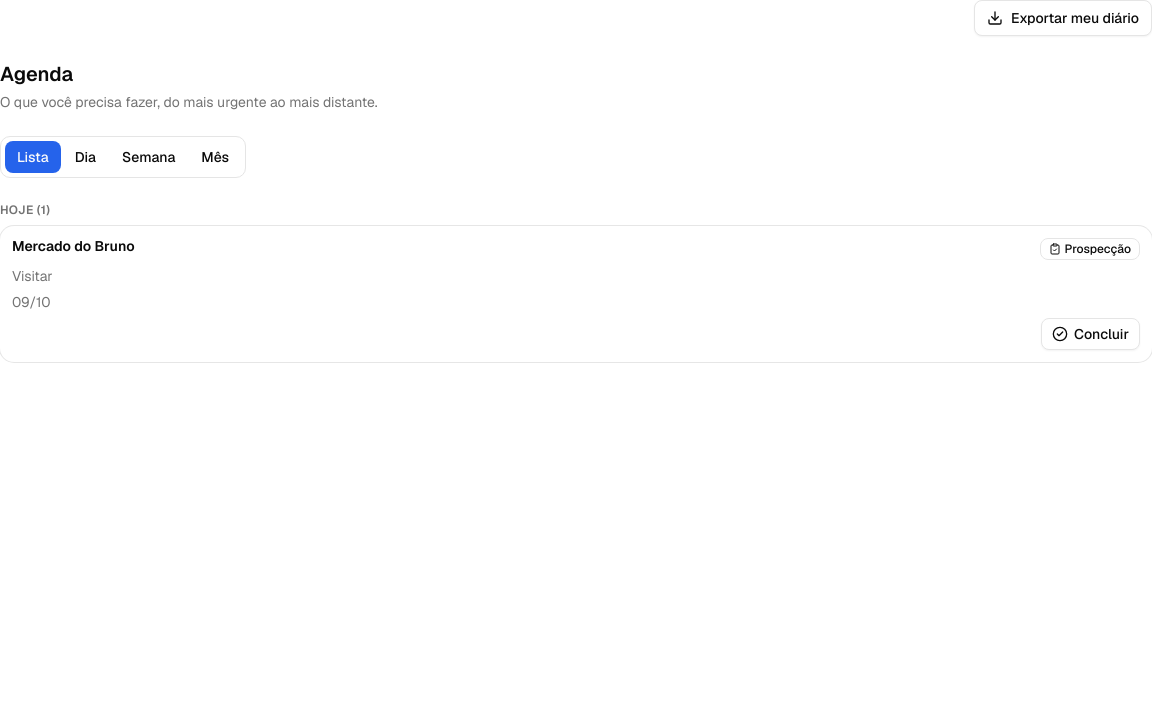
Test case: AgendaList + AgendaCalendario (integração, plano 20-05) › Lista vazia: quando o corte de vazio decide só o bloco da Lista, a barra do calendário continua visível (caminho de volta preservado)
Expected: the text "Mercado do Bruno" is shown, [12, 237, 135, 255]
Click the button "Concluir": (1091, 334) [1041, 318, 1140, 350]
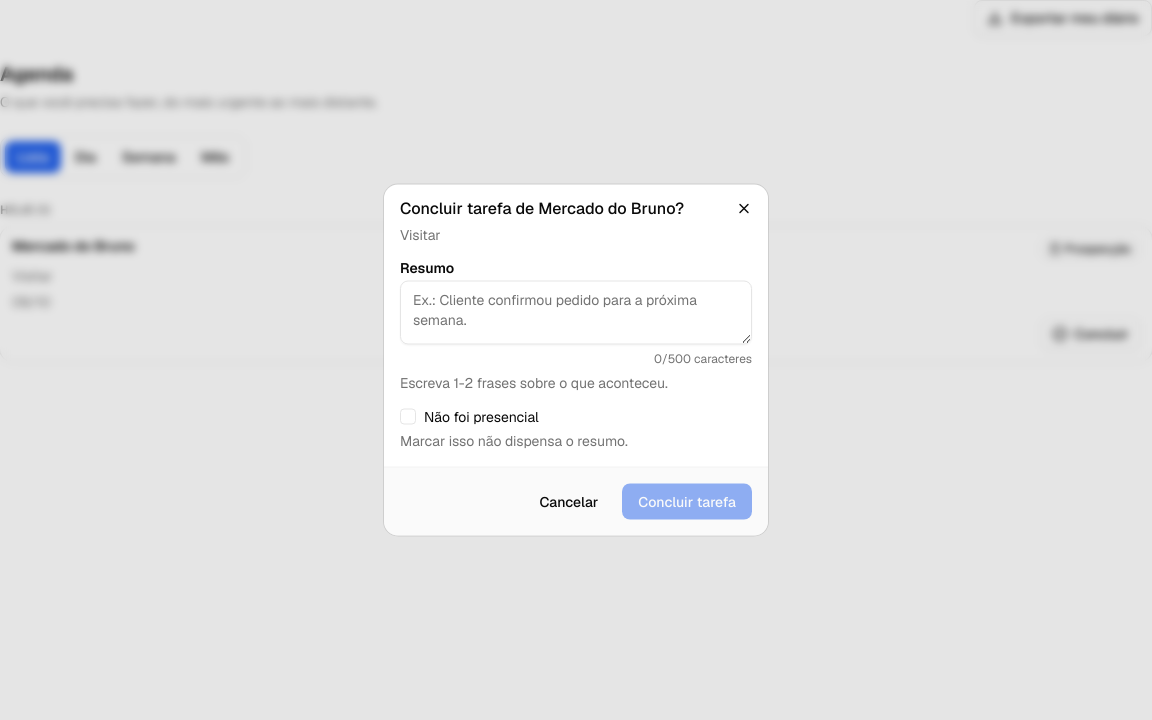
In the text box: (576, 312) [400, 280, 752, 344], type "Sem interesse por enquanto."
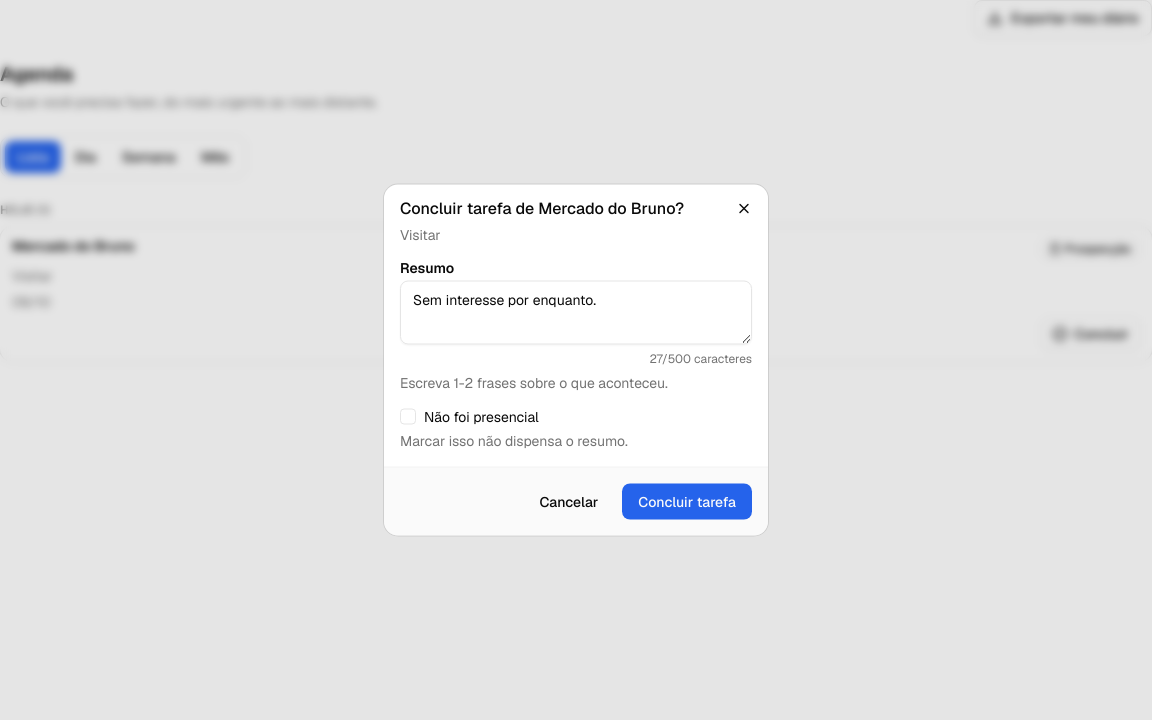
Click the button "Concluir tarefa": (687, 502) [622, 484, 752, 520]
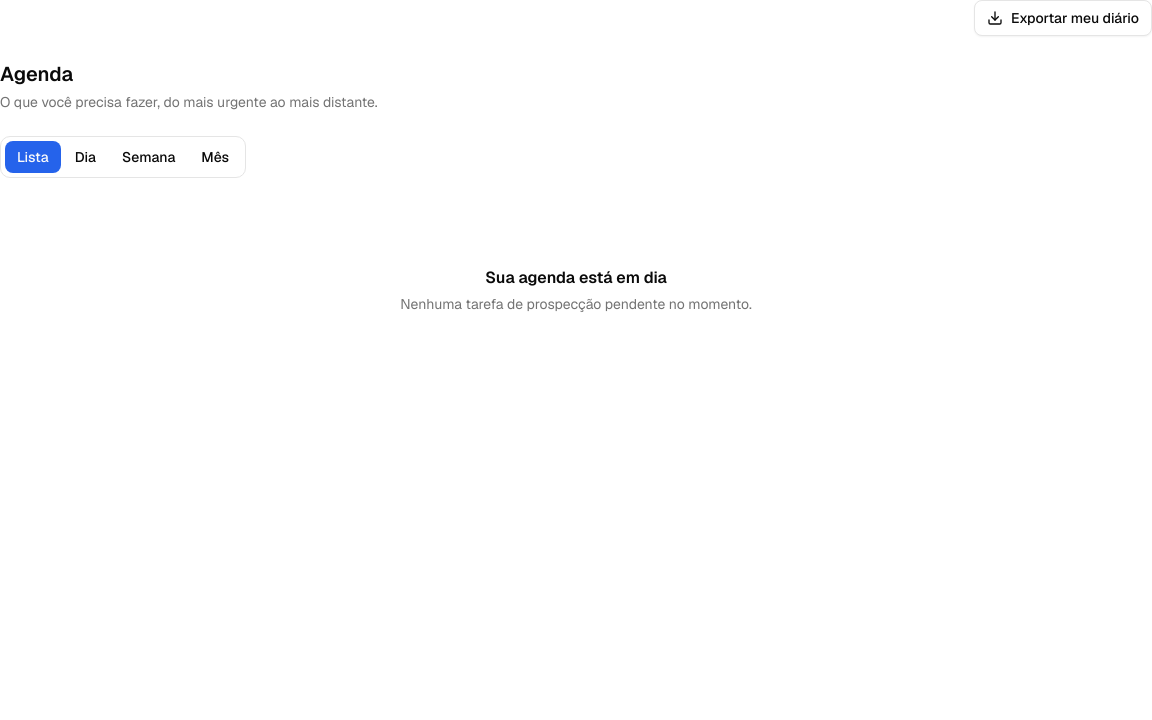
Expected: the button "Lista" is shown, [5, 141, 61, 173]
Expected: the text "Sua agenda está em dia" is shown, [485, 266, 667, 290]
